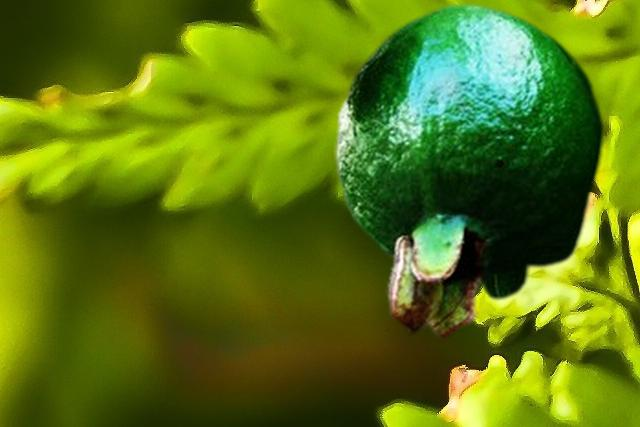guava: (334, 1, 605, 340)
